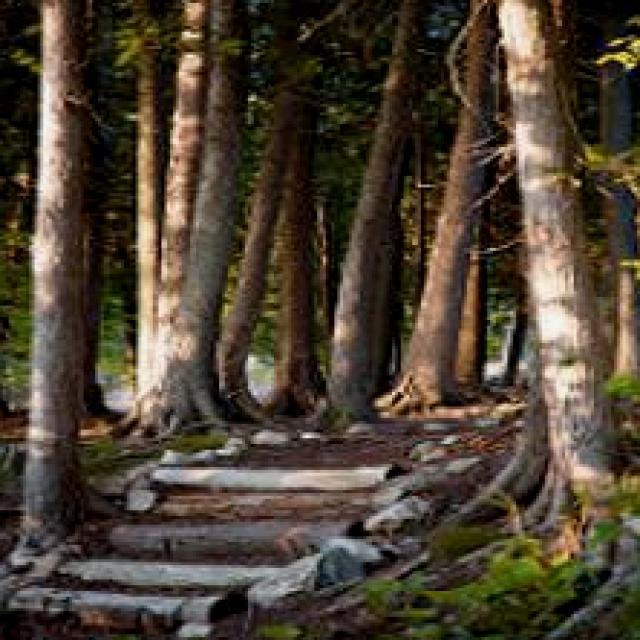upstair: (27, 422, 347, 621)
